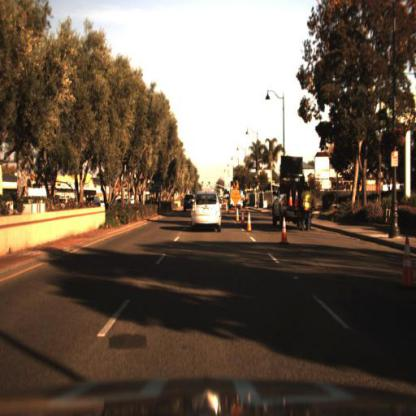car: (271, 179, 312, 228), (190, 187, 225, 237)
pedestrian: (299, 187, 314, 234)
trafficLight-YellowLeft: (287, 156, 313, 177)
